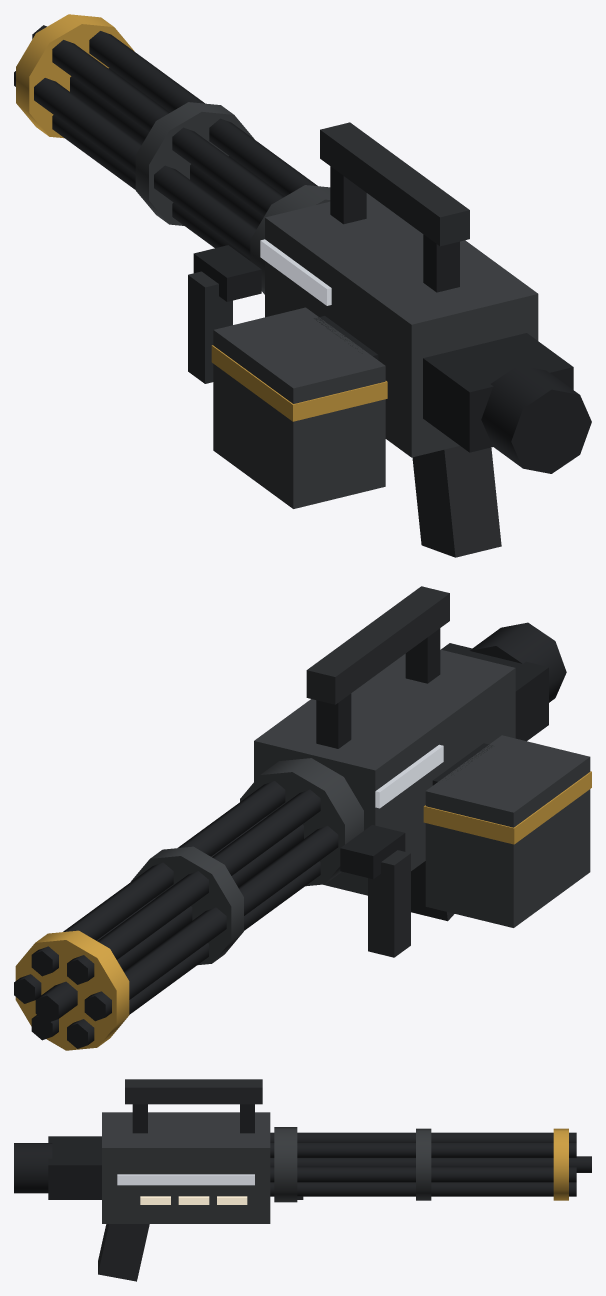
The model's file is BO_SK_Weapon_Minigun_v001.glb.
3 views of the same model, one above another, from view 1: azimuth 30°, elevation 25°; view 2: azimuth 150°, elevation 25°; view 3: azimuth 270°, elevation 25° (orthographic). The views are drawn at different scales.
Visible parts, largest first — view 1: body_000, body_016, body_002, body_001, body_019, body_015, body_005, body_006, body_004, body_010, body_011, body_024 (+8 smaller); view 2: body_000, body_016, body_015, body_005, body_006, body_004, body_011, body_009, body_010, body_024, body_012, body_007 (+9 smaller); view 3: body_000, body_003, body_004, body_008, body_015, body_001, body_012, body_005, body_019, body_002, body_009, glowfx_025 (+5 smaller).
Boxes of the visible parts, x1,y1,x2,y2 form: body_000: (265,193,538,457); body_016: (213,307,385,508); body_002: (481,365,591,473); body_001: (423,333,573,452); body_019: (412,446,501,557); body_015: (320,122,469,246); body_005: (32,25,283,216); body_006: (14,71,256,258); body_004: (89,31,317,196); body_010: (135,102,254,225); body_011: (16,14,134,138); body_024: (188,271,232,383); body_000: (254,649,515,895); body_016: (425,735,590,927); body_015: (306,586,449,704); body_005: (67,789,320,984); body_006: (84,825,338,1021); body_004: (31,781,285,976); body_011: (15,930,129,1050); body_009: (240,758,363,886); body_010: (131,846,243,965); body_024: (368,850,410,957); body_012: (35,824,303,1022); body_007: (67,861,320,1048); body_000: (102,1112,270,1223); body_003: (270,1167,576,1182); body_004: (270,1143,576,1158); body_008: (270,1182,576,1196); body_015: (125,1079,262,1104); body_001: (48,1136,101,1199); body_012: (270,1156,591,1172); body_005: (270,1132,576,1142); body_019: (98,1224,149,1281); body_002: (14,1143,52,1193); body_009: (274,1127,297,1202); glowfx_025: (117,1174,254,1185).
Bounding box in the file's own units: 0.201 × 0.2762 × 0.755.
